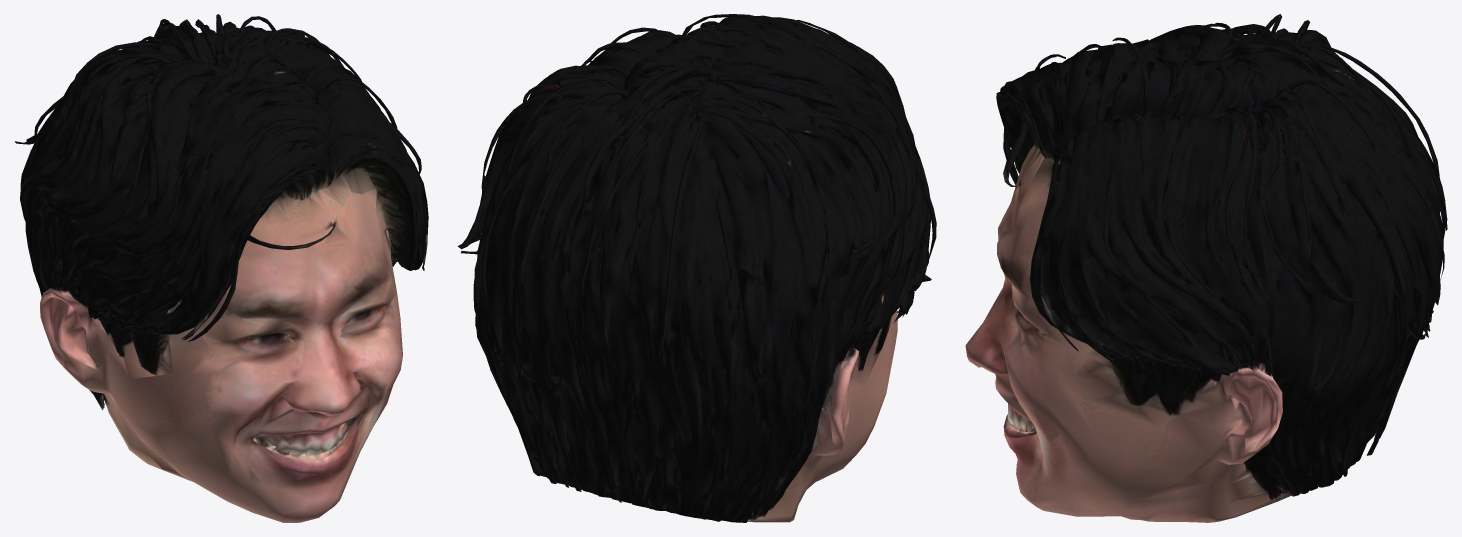
The model's file is head_shaw.glb.
The picture shows the model from 3 angles, left to right: view 1: azimuth 30°, elevation 25°; view 2: azimuth 150°, elevation 25°; view 3: azimuth 270°, elevation 25°; orthographic projection. The views are drawn at different scales.
Parts seen in each view (by area): view 1: Mesh_0; view 2: Mesh_0; view 3: Mesh_0.
Part boxes in pixels (left/top/right/bottom): Mesh_0: left=15, top=14, right=428, bottom=522; Mesh_0: left=457, top=14, right=936, bottom=522; Mesh_0: left=965, top=14, right=1447, bottom=522.
Bounding box in the file's own units: 0.7324 × 0.9002 × 0.8407.
1 material, 1 textured.
